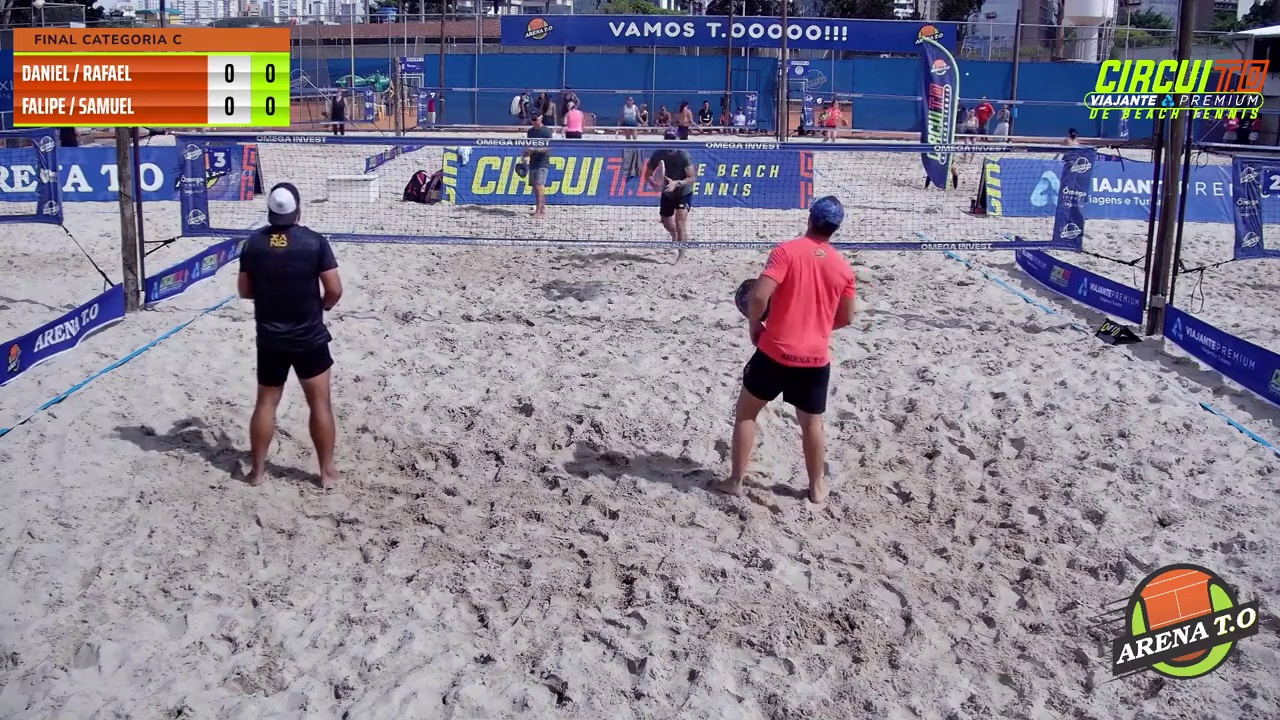court_line: (625, 0, 784, 398)
